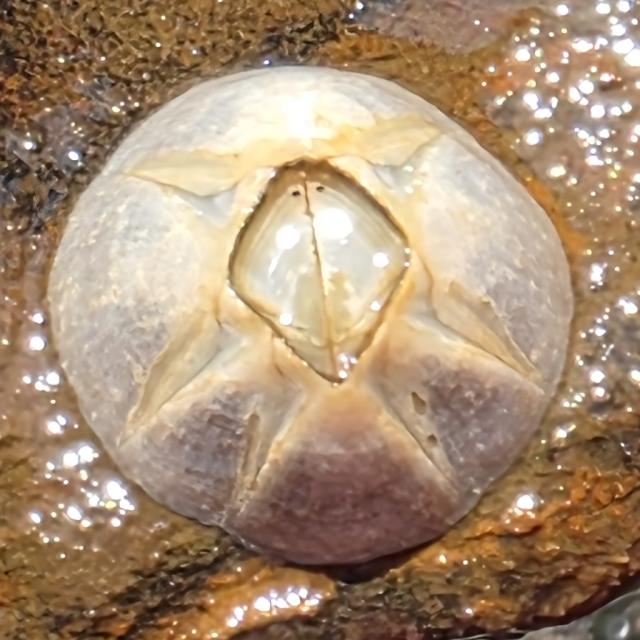barnacles: (50, 55, 573, 585)
